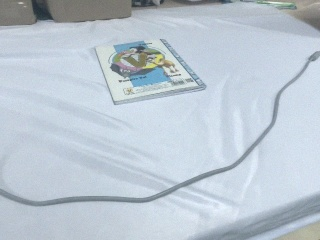book: (95, 37, 209, 107)
box: (30, 1, 133, 25), (1, 1, 37, 27)
